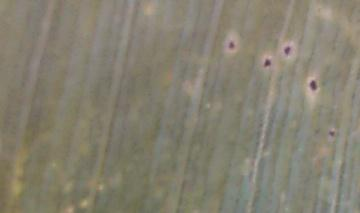tarspot: (308, 78, 318, 91), (263, 58, 271, 68), (284, 46, 291, 57), (227, 41, 235, 50), (329, 130, 335, 137)
